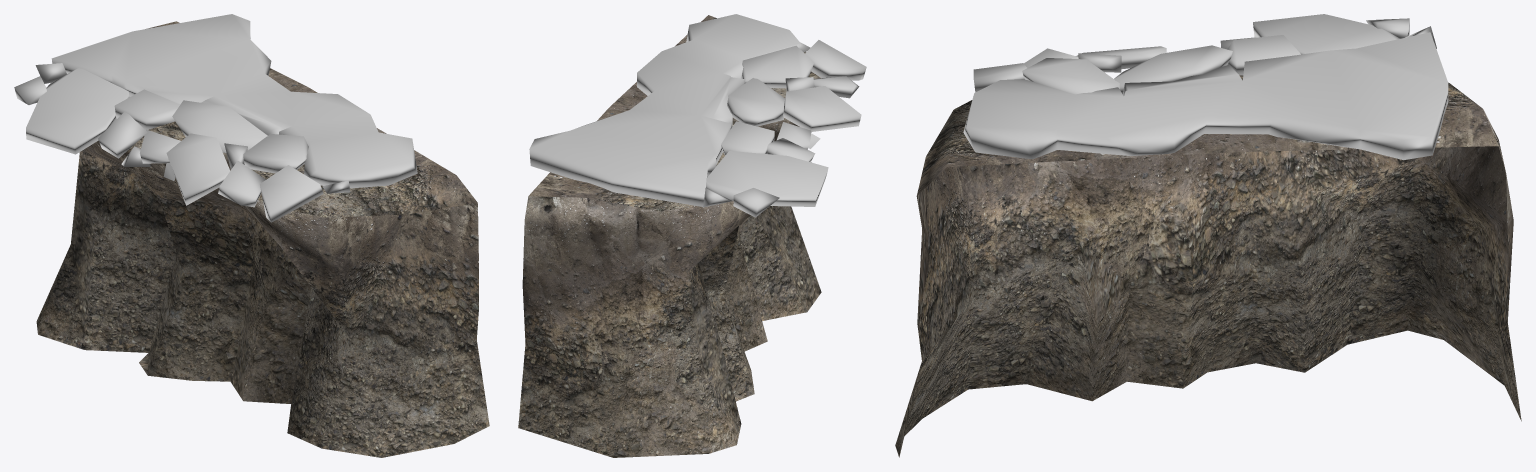
Rendered from Road_end1_LOD2.fbx.
3 views of the same model, side by side, from view 1: azimuth 30°, elevation 25°; view 2: azimuth 150°, elevation 25°; view 3: azimuth 270°, elevation 25° (orthographic). The views are drawn at different scales.
Parts seen in each view (by area): view 1: polySurface409; view 2: polySurface409; view 3: polySurface409.
Boxes of the visible parts, x1,y1,x2,y2 form: polySurface409: [14, 14, 489, 457]; polySurface409: [518, 14, 866, 457]; polySurface409: [895, 14, 1521, 457].
Size of the model in its own units: 4.23 by 3.93 by 6.79.
